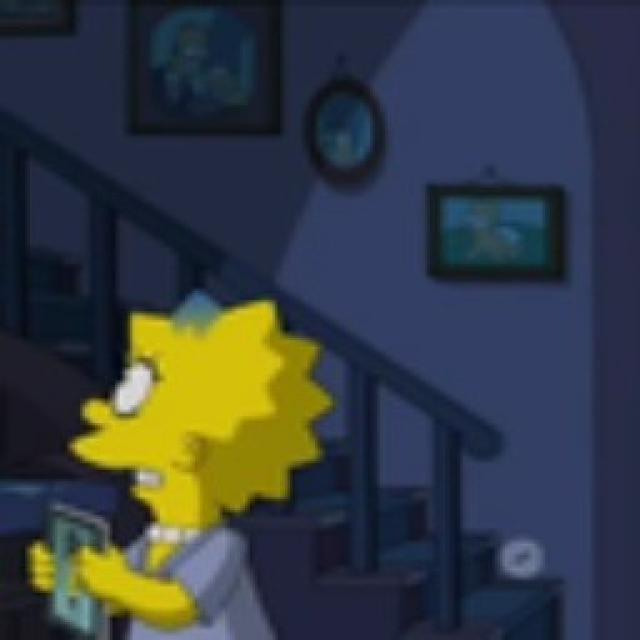Lisa Simpson: (69, 293, 336, 535)
